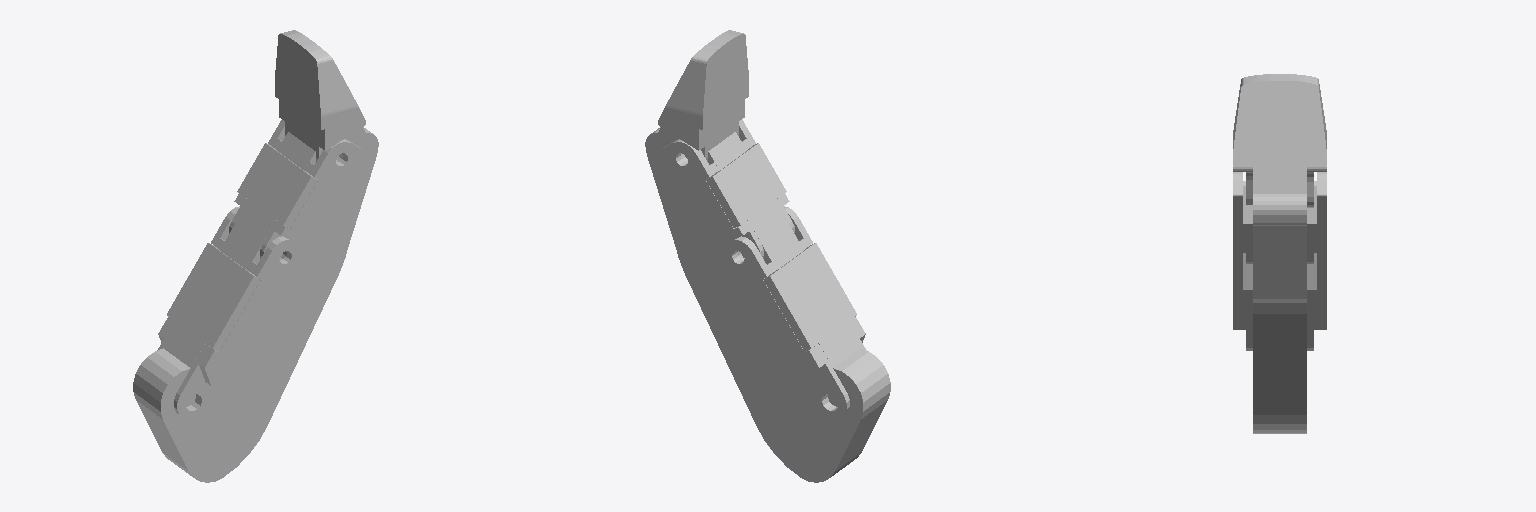
Rendered from armL bfinger.005.obj.
3 renders of one model, left to right at view 1: azimuth 30°, elevation 25°; view 2: azimuth 150°, elevation 25°; view 3: azimuth 270°, elevation 25°, orthographic.
Parts seen in each view (by area): view 1: collision_0_armR_bfinger_armL_bfinger.005; view 2: collision_0_armR_bfinger_armL_bfinger.005; view 3: collision_0_armR_bfinger_armL_bfinger.005.
Part boxes in pixels (bbox=[...]): collision_0_armR_bfinger_armL_bfinger.005: bbox=[133, 30, 378, 482]; collision_0_armR_bfinger_armL_bfinger.005: bbox=[645, 30, 890, 482]; collision_0_armR_bfinger_armL_bfinger.005: bbox=[1233, 74, 1326, 433].
Size of the model in its own units: 0.0624 by 0.1107 by 0.0231.